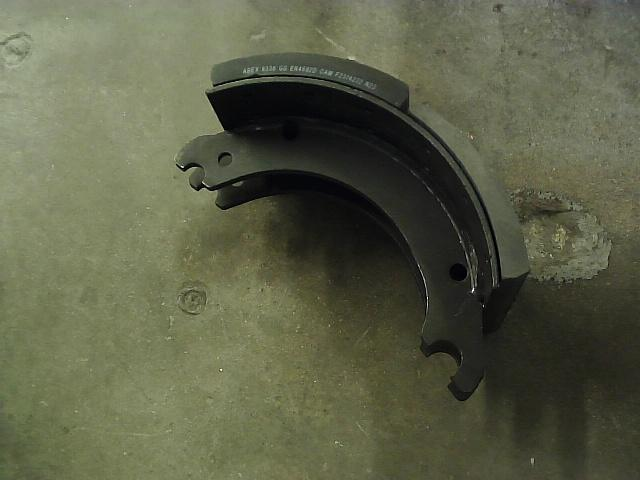brake-shoes: (173, 49, 532, 403)
